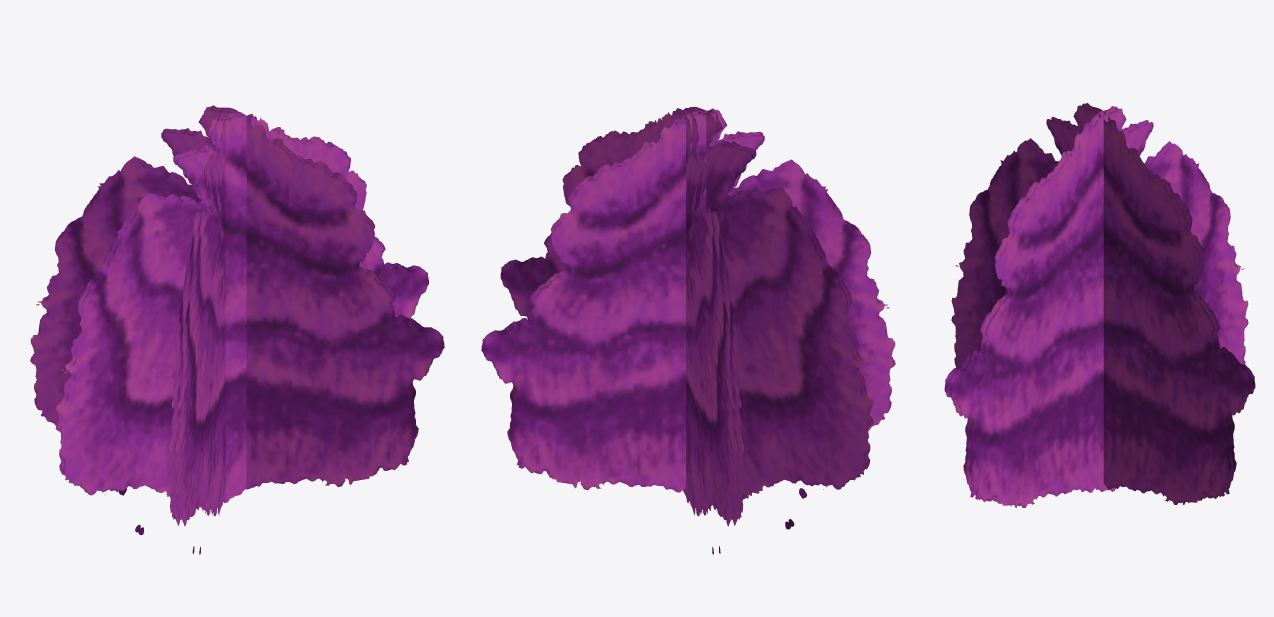
File: Coral_purple.obj
3 views of the same model, side by side, from view 1: azimuth 30°, elevation 25°; view 2: azimuth 150°, elevation 25°; view 3: azimuth 270°, elevation 25° (orthographic).
Visible parts, largest first — view 1: polySurface22; view 2: polySurface22; view 3: polySurface22.
Boxes of the visible parts, x1,y1,x2,y2 form: polySurface22: [30, 105, 444, 554]; polySurface22: [481, 106, 895, 554]; polySurface22: [944, 103, 1255, 508].
Bounding box in the file's own units: 4.48 × 4.48 × 3.23.
